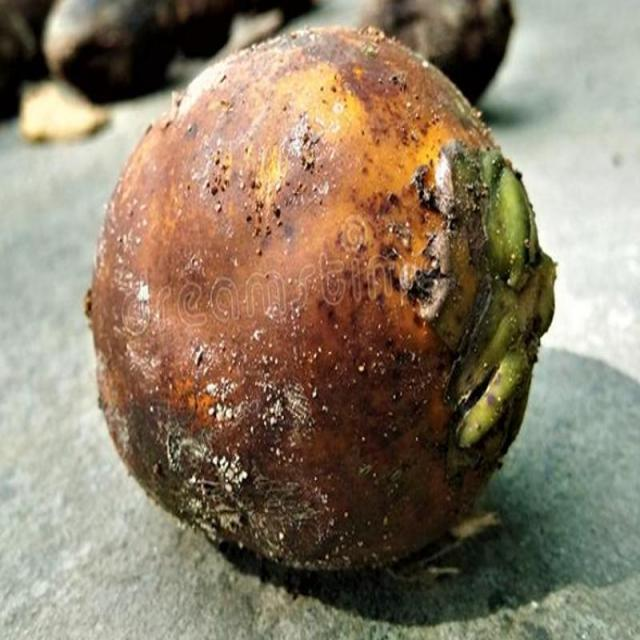damaged: (86, 28, 557, 578)
